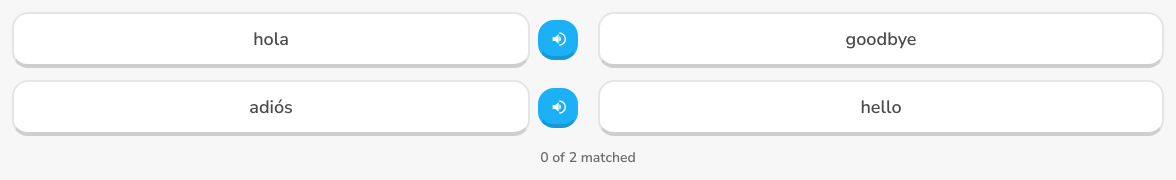
MatchPairsExercise › a correct pair locks both tiles
This screenshot has width=1176, height=180.
What coordinates should you click on to do the following:
click the button "hola"
I would click on:
 (271, 40)
Its box is [12,12,530,68].
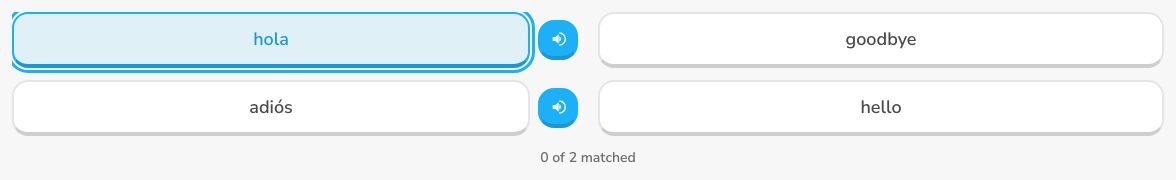
What coordinates should you click on to do the following:
click the button "hello"
I would click on:
 (881, 108)
Its box is [598,80,1164,136].
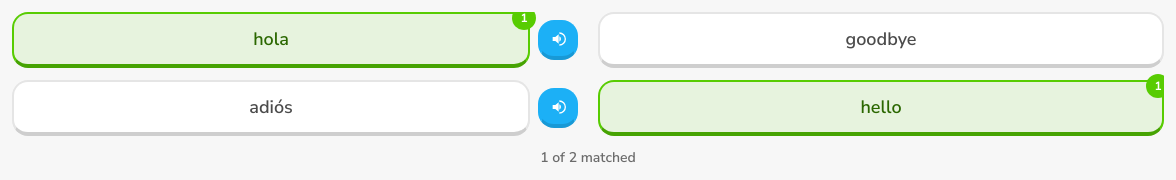
Check: the button with aria-label "hola, matched" is disabled, box [12,12,530,68]
Check: the button with aria-label "hello, matched" is disabled, box [598,80,1164,136]
